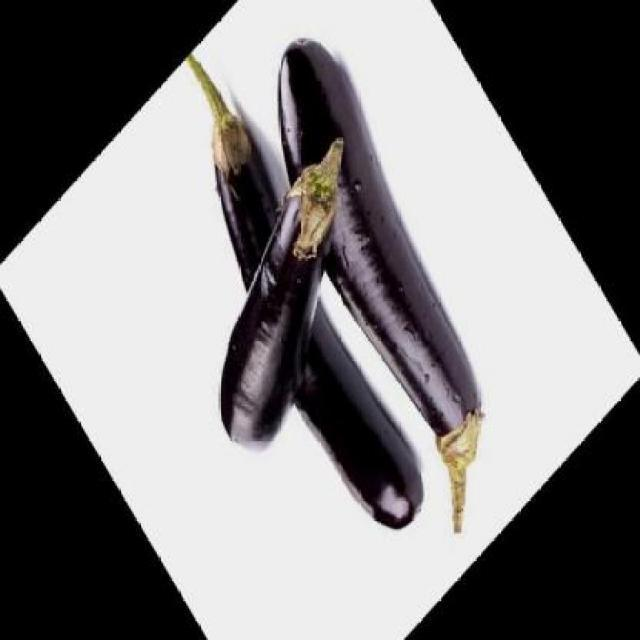eggplant: (215, 14, 558, 537), (127, 41, 455, 554), (162, 126, 424, 468)
